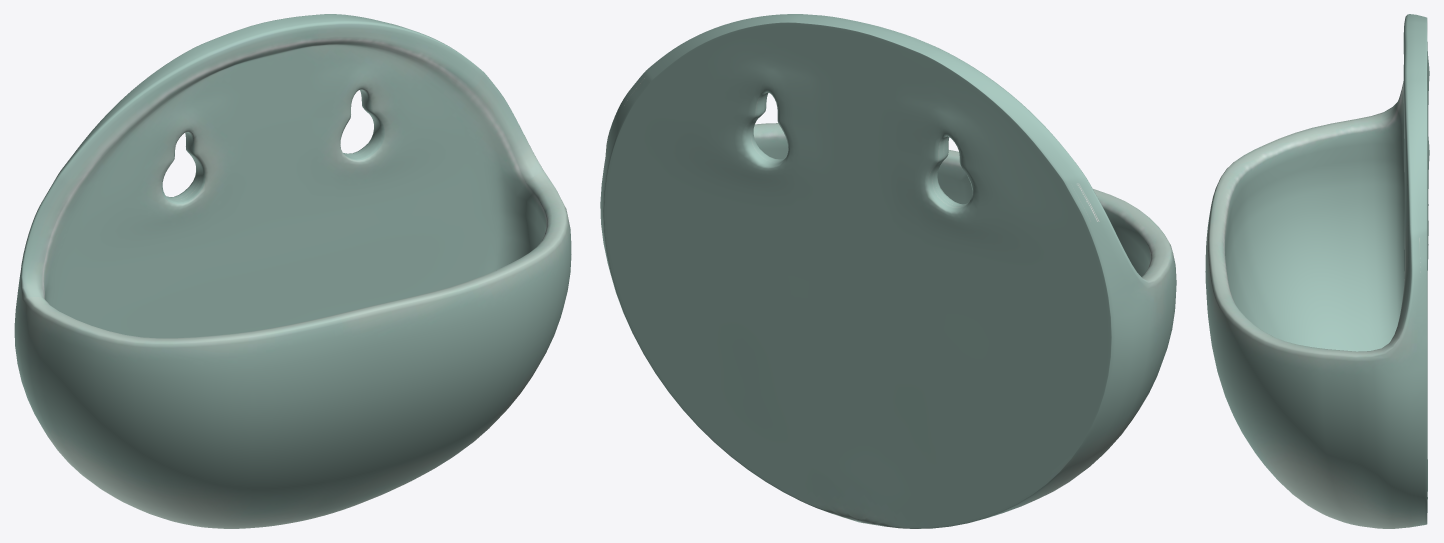
The model's file is planter_B075HXLWRM.glb.
3 views of the same model, side by side, from view 1: azimuth 30°, elevation 25°; view 2: azimuth 150°, elevation 25°; view 3: azimuth 270°, elevation 25° (orthographic). The views are drawn at different scales.
Visible parts, largest first — view 1: RootNode; view 2: RootNode; view 3: RootNode.
Boxes of the visible parts, x1,y1,x2,y2 form: RootNode: [14, 14, 571, 528]; RootNode: [600, 14, 1176, 528]; RootNode: [1205, 14, 1429, 528].
Size of the model in its own units: 0.1886 by 0.1636 by 0.073.
1 material, 1 textured.
